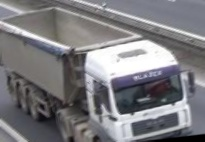truck: (0, 0, 201, 142)
